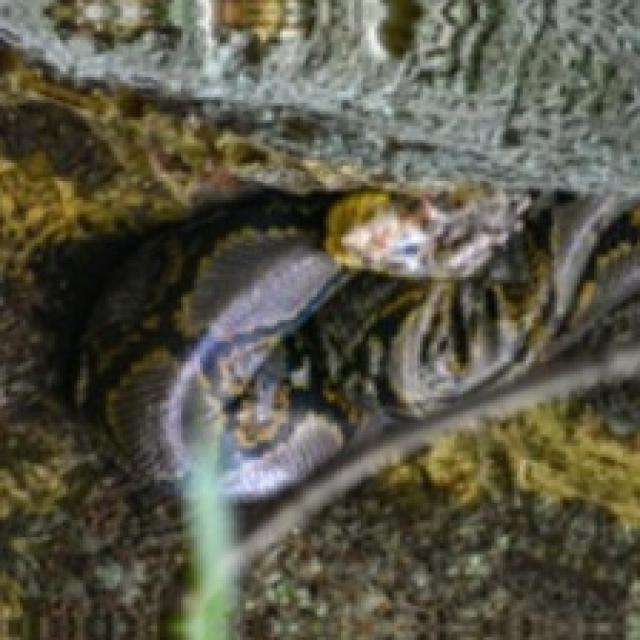reticulated python: (106, 191, 637, 500)
